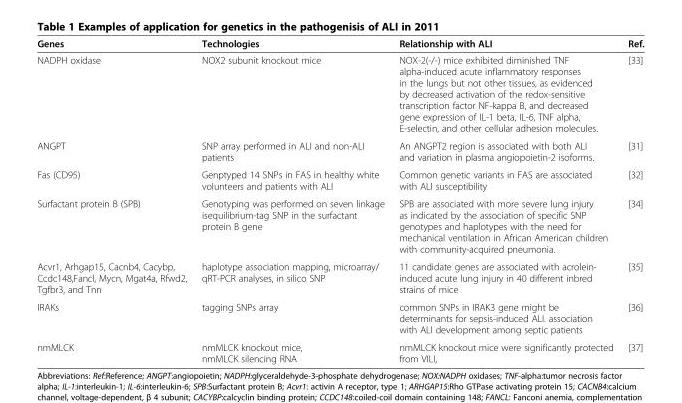table: (36, 37, 643, 363)
table column: (391, 37, 619, 363), (193, 37, 391, 363), (36, 37, 193, 363), (619, 37, 643, 363)
table column header: (36, 37, 643, 51)
table row: (36, 51, 643, 136), (36, 194, 643, 257), (36, 297, 643, 338), (36, 257, 643, 297), (36, 136, 643, 165), (36, 165, 643, 194), (36, 338, 643, 363), (36, 37, 643, 51)
